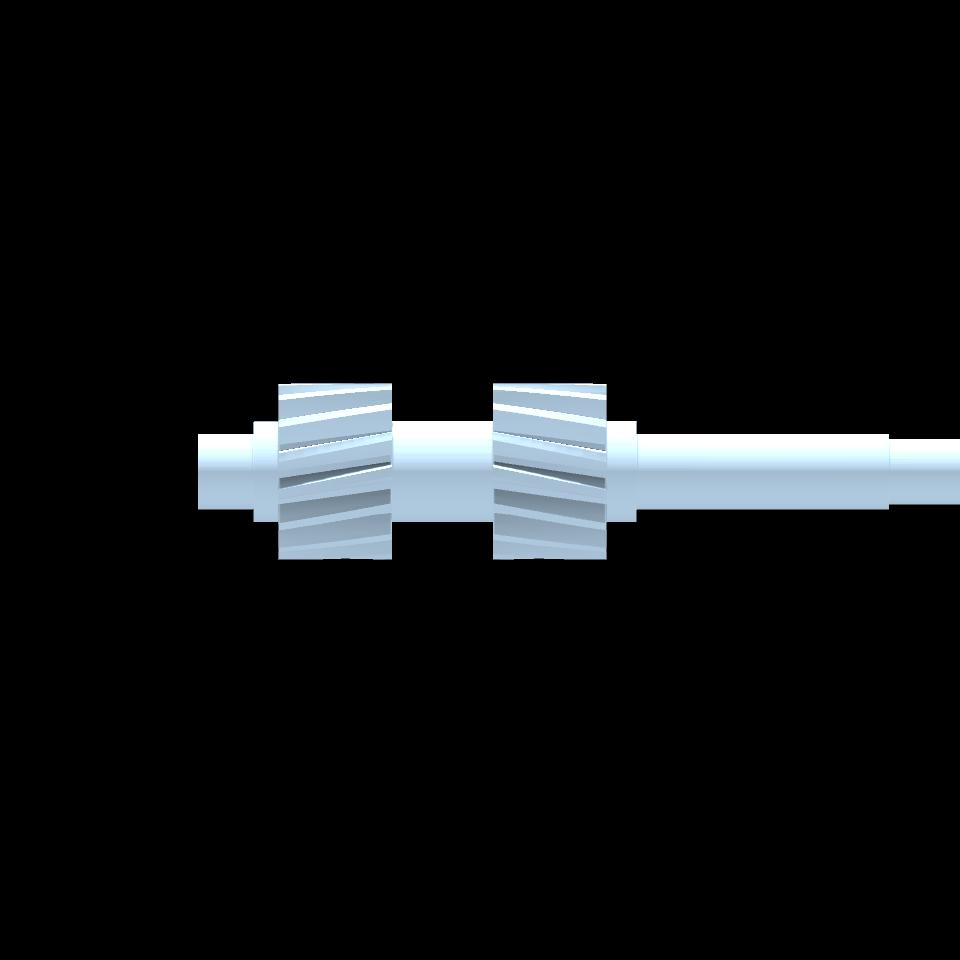Helical: (278, 384, 391, 561), (492, 383, 605, 558)
